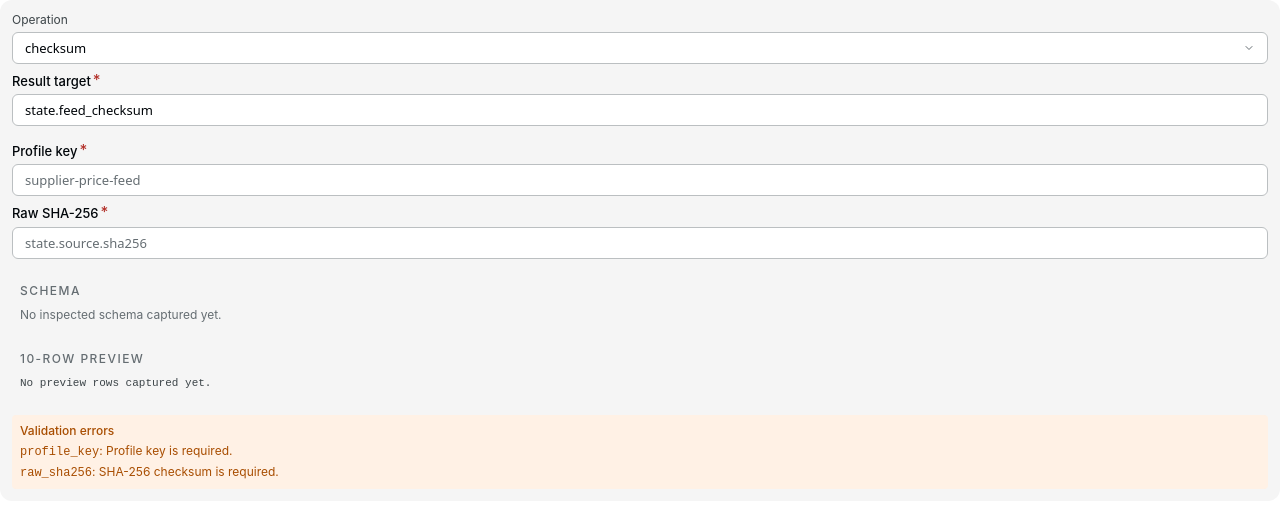
WorkflowStepKindSmartSetup tabular_feed builder › exposes the canonical checksum operation with typed inputs
Click the dropdown named "Operation". click: [56, 48]
box: [12,32,1268,64]
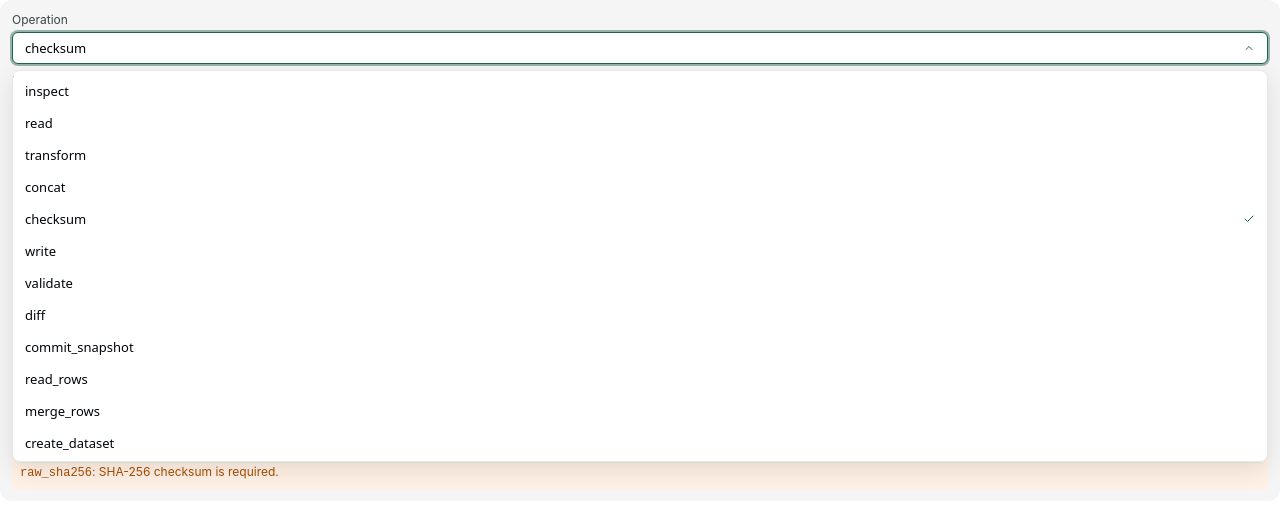
Expected: the text "Profile key" is shown, [12,143,78,159]
Result: the option "checksum" is shown at [17,203,1263,235]
